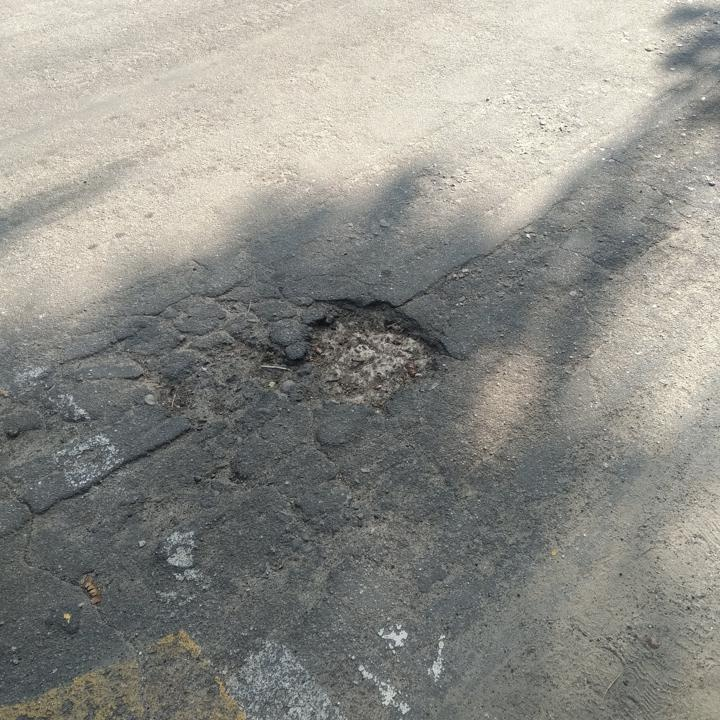pothole: (295, 290, 460, 407), (156, 335, 291, 420)
